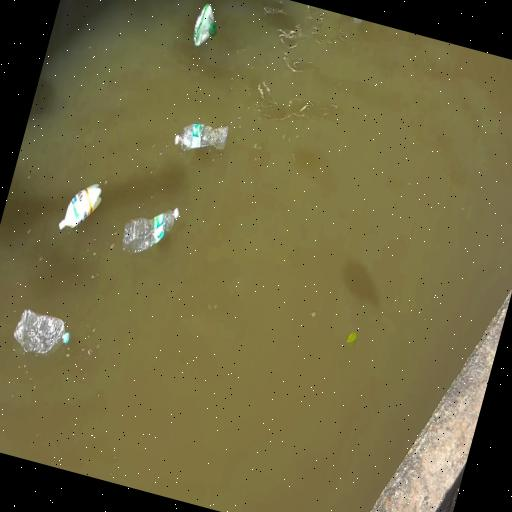plastic: (14, 309, 69, 355), (123, 208, 179, 253), (59, 184, 101, 229), (175, 124, 228, 150), (194, 4, 217, 46)
